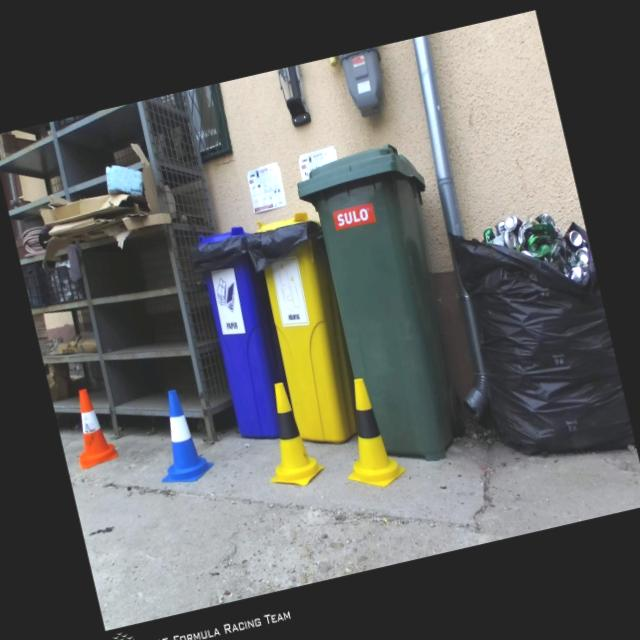blue_cone: (142, 384, 216, 488)
orange_cone: (64, 384, 119, 470)
yellow_cone: (326, 372, 408, 494), (249, 377, 327, 492)
